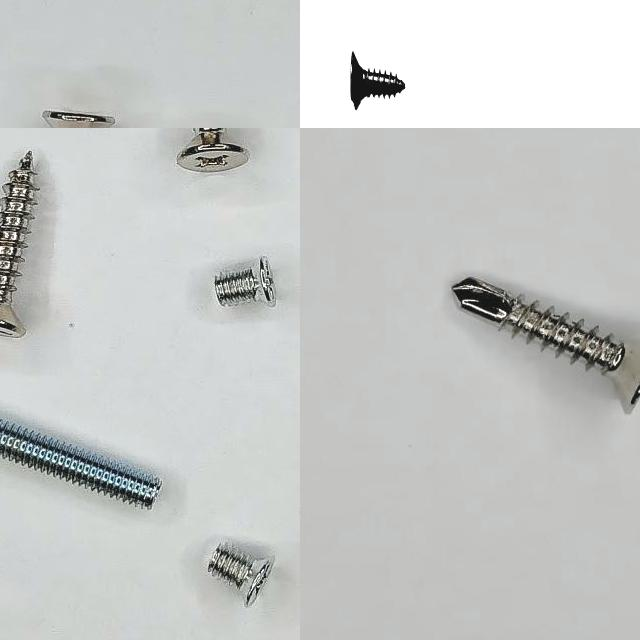Screw: (452, 277, 640, 414), (0, 421, 161, 510), (0, 151, 37, 337), (207, 544, 274, 608), (350, 49, 405, 108), (176, 128, 248, 172), (214, 257, 276, 306)
